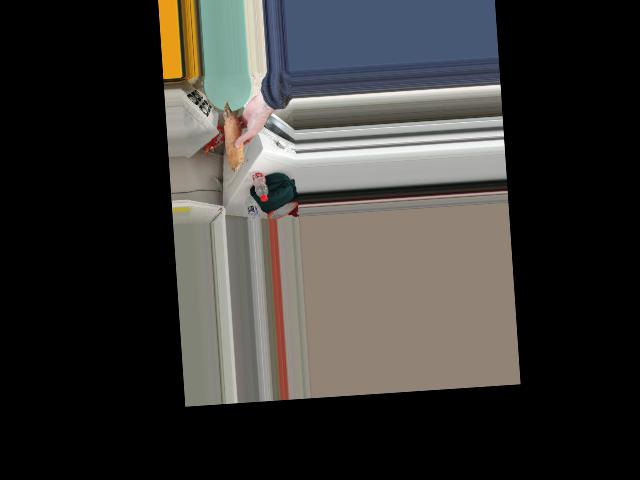sweet_potato: (221, 99, 249, 167)
